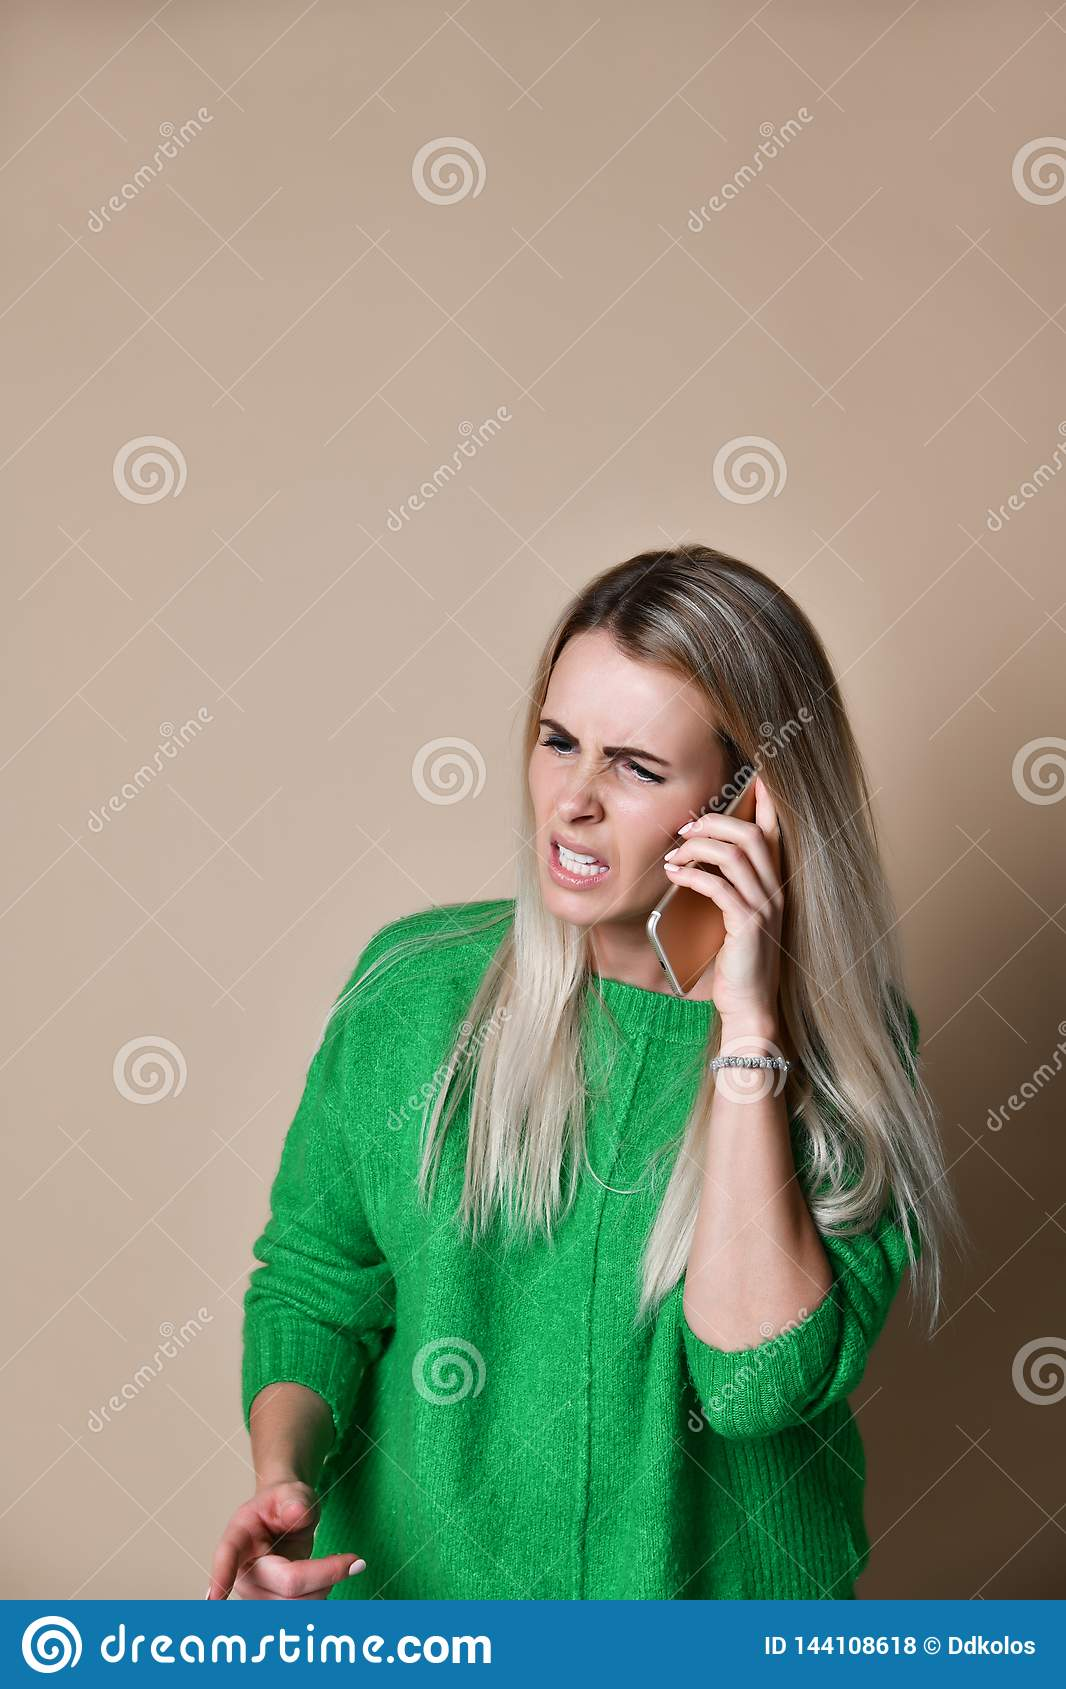phone: (648, 771, 788, 1007)
talk: (527, 708, 795, 1051)
